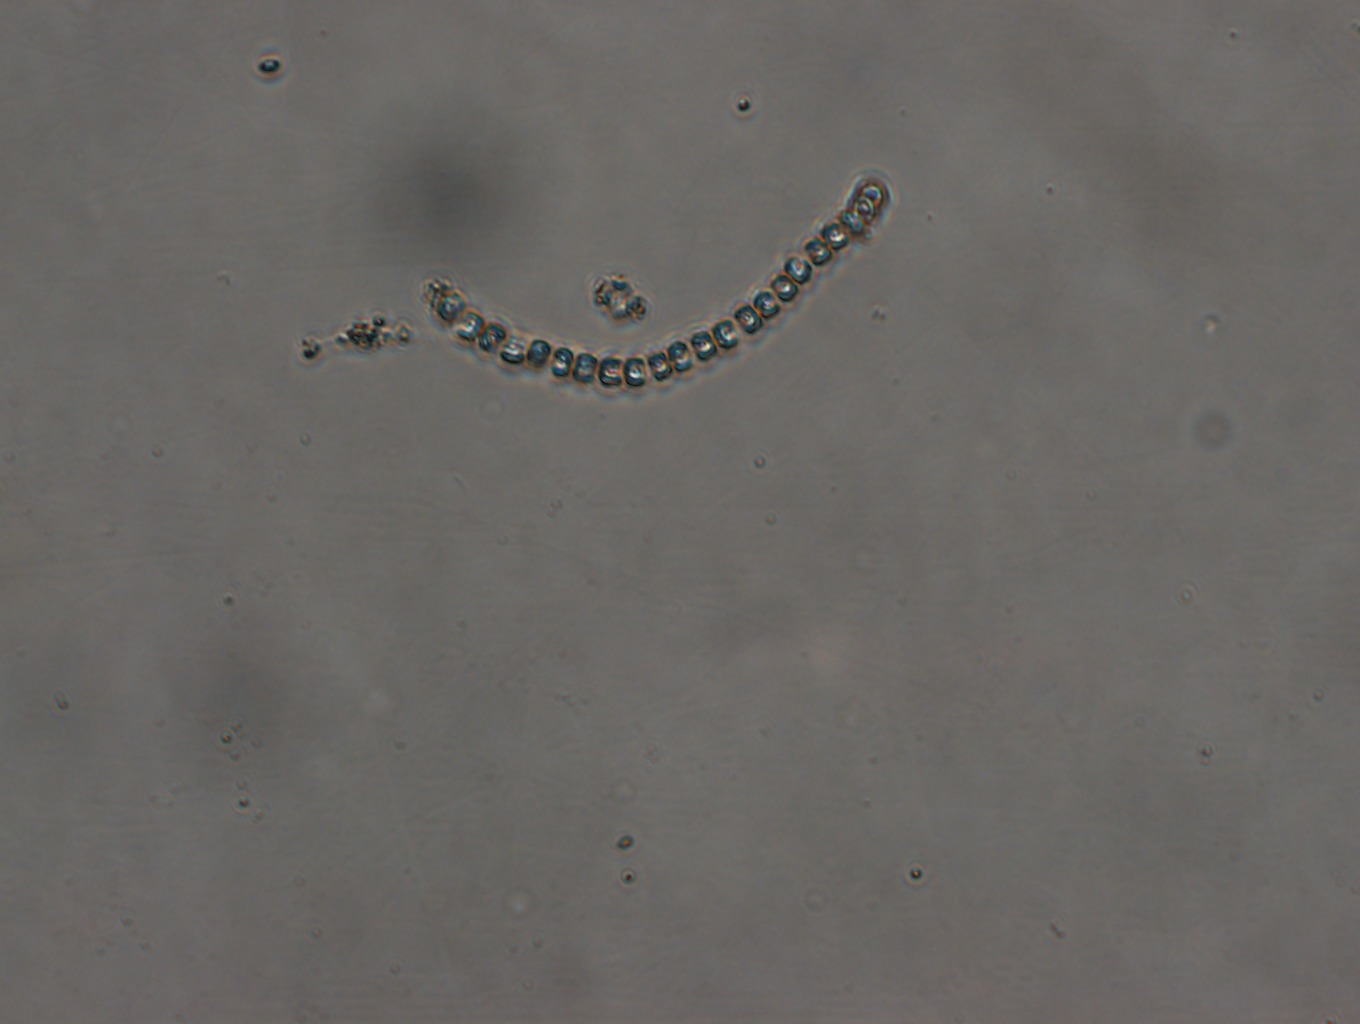skeletonema: (419, 163, 891, 399)
